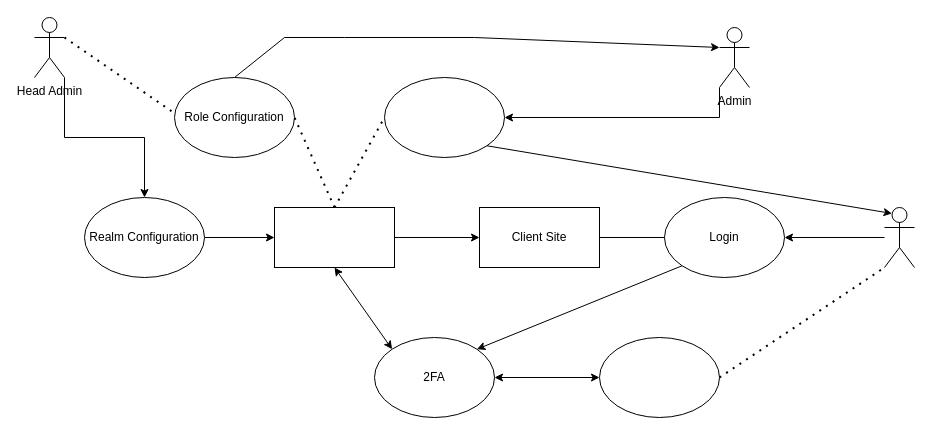
Image size: 932x435. Some labels were removed from this diagram. Each missing label, with the centre of its shape:
"Consent to request Credentials" belongs at (x=659, y=377).
"Keycloak Realm" belongs at (x=334, y=237).
"User" belongs at (x=899, y=237).
"User Management" belongs at (x=444, y=117).
